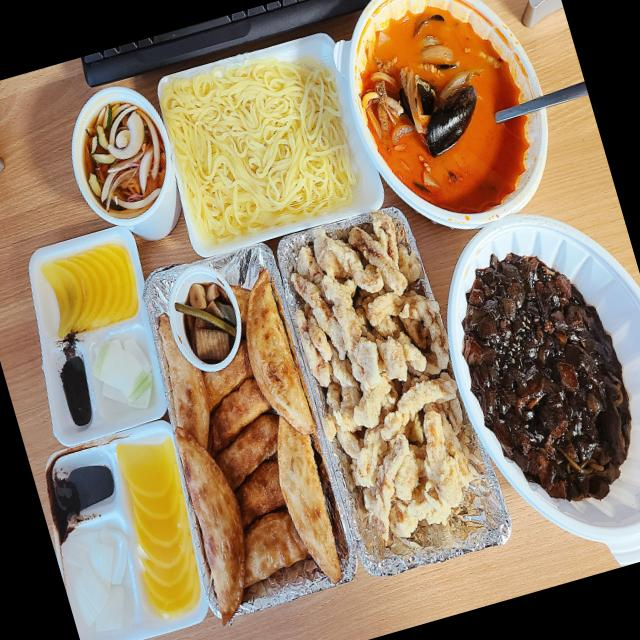aluminum foil: (263, 203, 522, 585), (137, 235, 359, 621)
plastic-bowl: (434, 202, 640, 565), (149, 25, 397, 263), (344, 0, 566, 238), (55, 75, 183, 251), (159, 258, 247, 368)
styrofoam: (38, 420, 221, 640), (19, 218, 171, 445)
